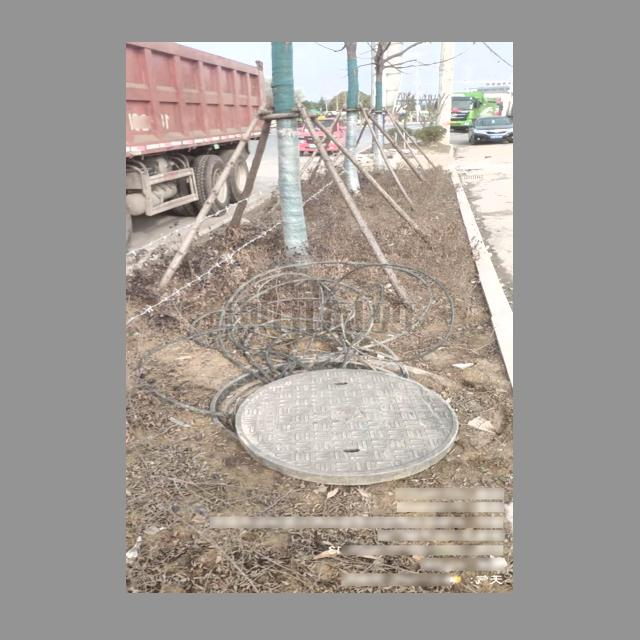uncovered: (213, 356, 460, 483)
